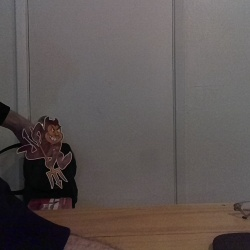sparky: (15, 115, 73, 189)
